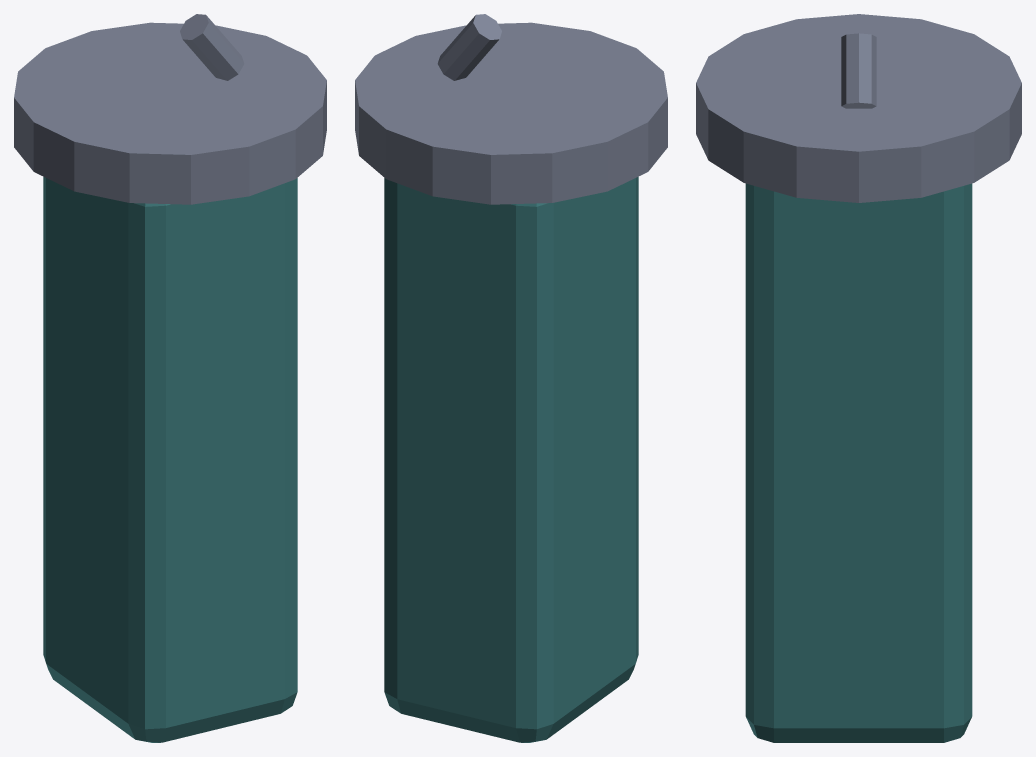
The model's file is drinking_fountain.glb.
3 views of the same model, side by side, from view 1: azimuth 30°, elevation 25°; view 2: azimuth 150°, elevation 25°; view 3: azimuth 270°, elevation 25° (orthographic). The views are drawn at different scales.
Parts seen in each view (by area): view 1: drinking_fountain_Mesh; view 2: drinking_fountain_Mesh; view 3: drinking_fountain_Mesh.
Part boxes in pixels (left/top/right/bottom): drinking_fountain_Mesh: left=14, top=14, right=326, bottom=742; drinking_fountain_Mesh: left=355, top=14, right=667, bottom=742; drinking_fountain_Mesh: left=696, top=14, right=1021, bottom=742.
Size of the model in its own units: 0.46 by 1.08 by 0.46.
